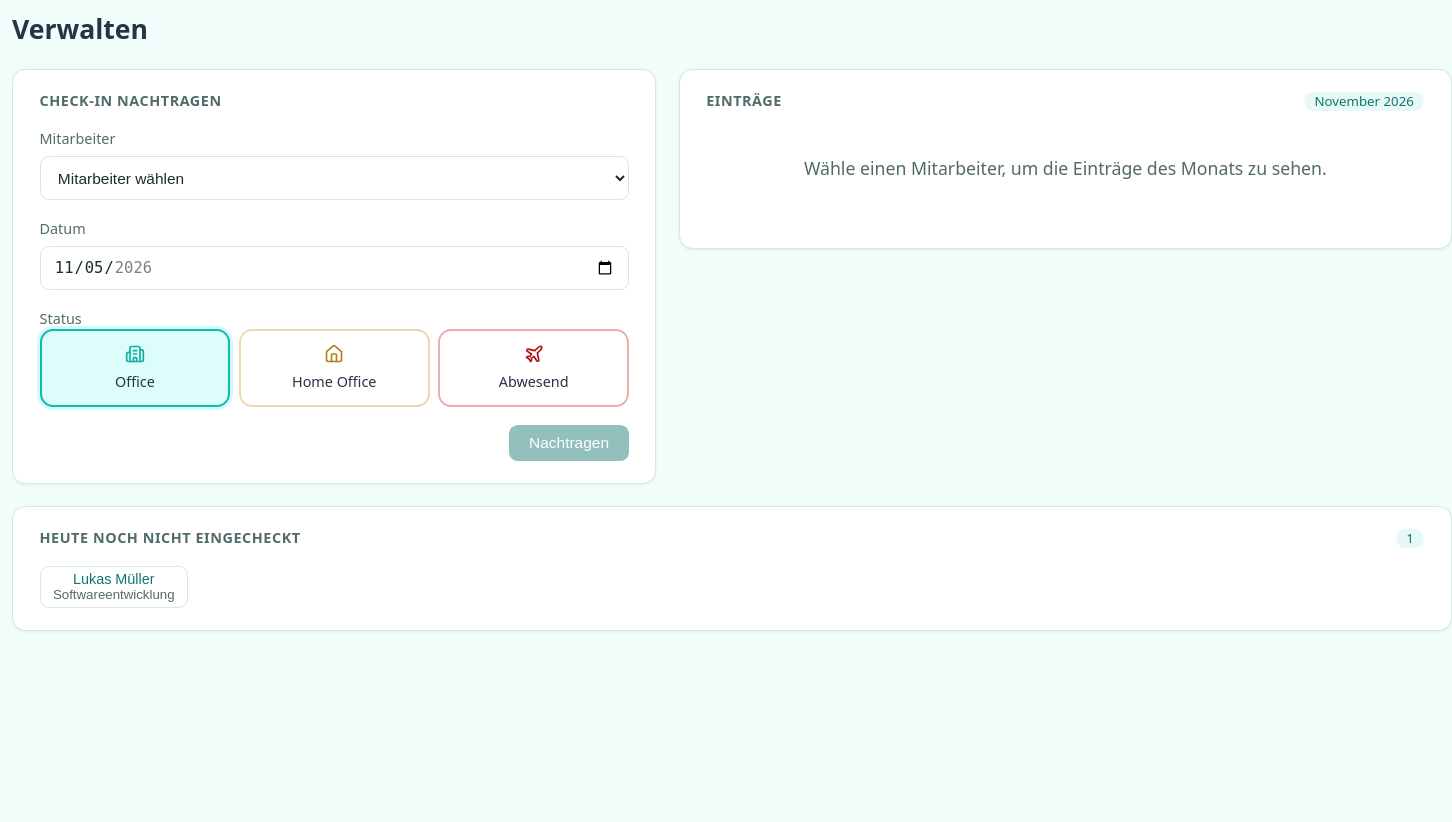
Test case: Manage page: entries of the month › loads the entries of the month after a selection
Select "Anna Adler" in the dropdown at [334, 178], box [40, 156, 629, 200]
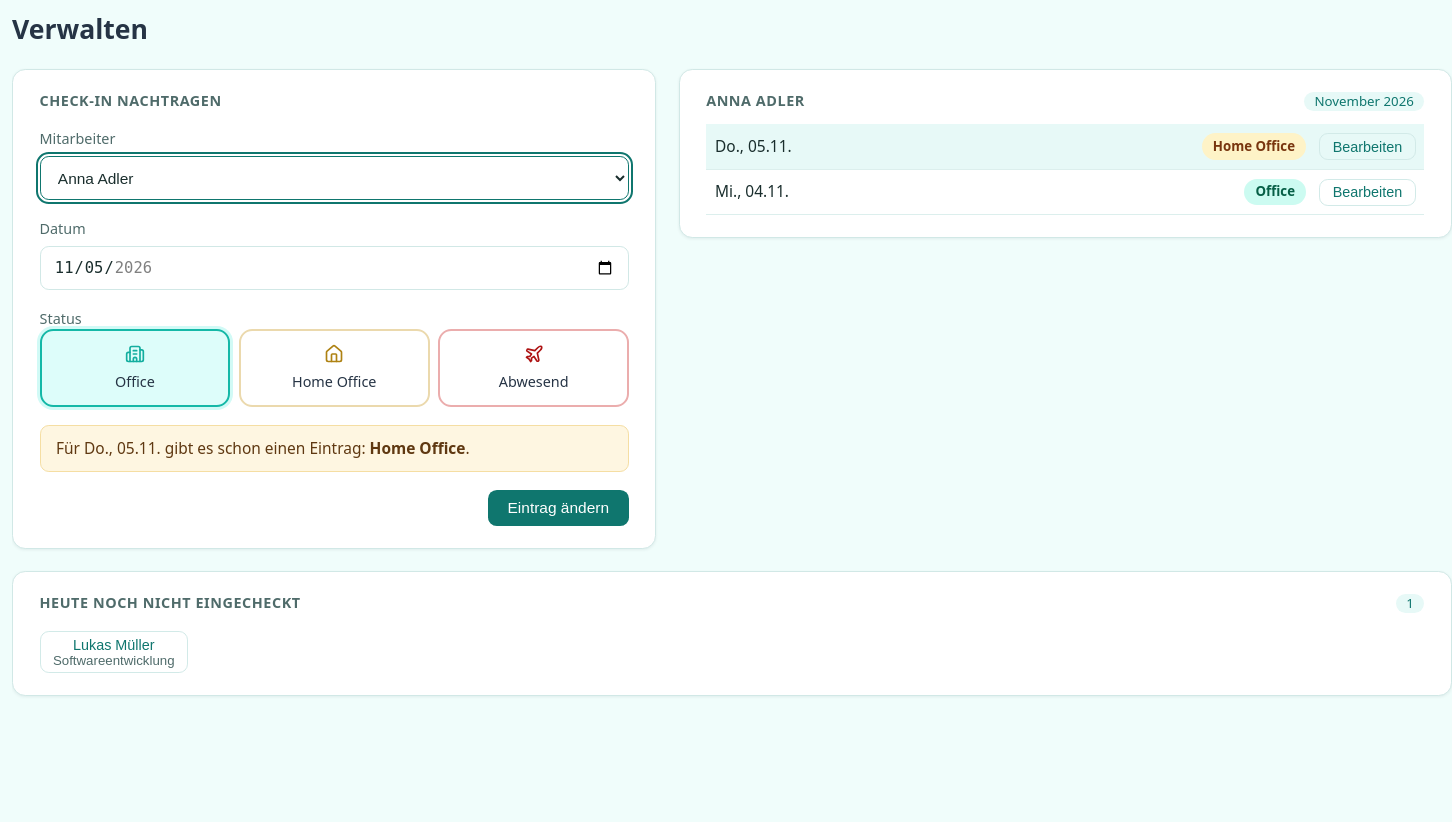
expect the text "Do., 05.11." is shown: met, box [715, 135, 792, 157]
expect the text "Mi., 04.11." is shown: met, box [715, 180, 789, 202]
